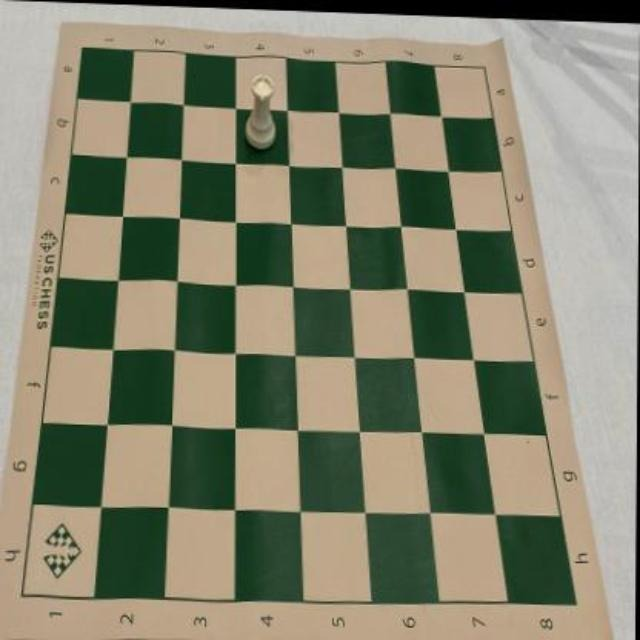white-rook: (246, 71, 278, 149)
